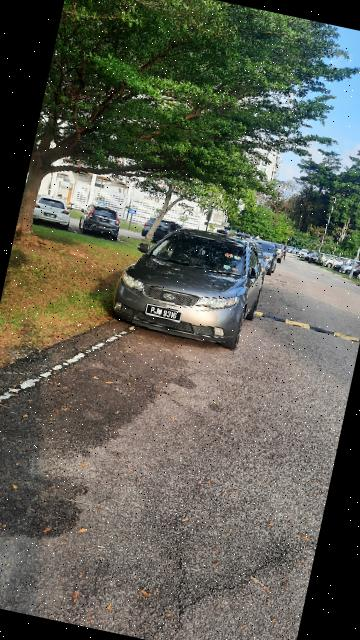License_Plate: (142, 302, 184, 326)
car: (102, 214, 275, 358), (75, 201, 126, 244), (30, 194, 77, 234)
